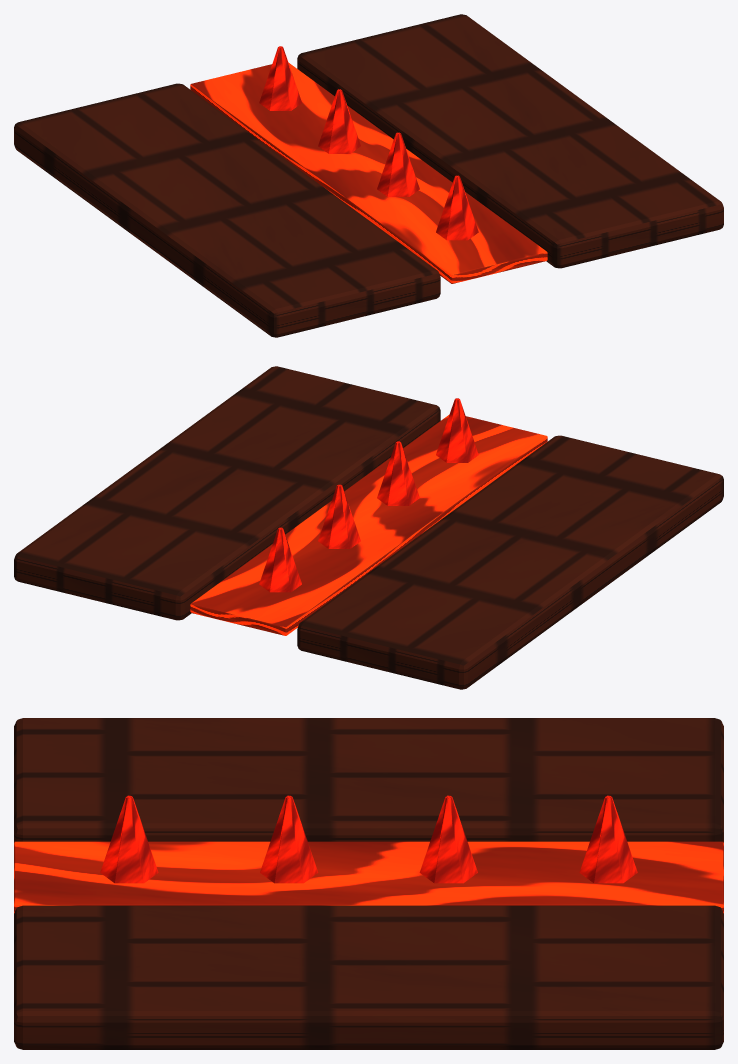
File: SM_FC_MagmaFissure_400.glb
The picture shows the model from 3 angles, top to bottom: view 1: azimuth 30°, elevation 25°; view 2: azimuth 150°, elevation 25°; view 3: azimuth 270°, elevation 25°; orthographic projection. The views are drawn at different scales.
Parts seen in each view (by area): view 1: SM_FC_MagmaFissure_400; view 2: SM_FC_MagmaFissure_400; view 3: SM_FC_MagmaFissure_400.
Boxes of the visible parts, left/top/right/bottom form: SM_FC_MagmaFissure_400: left=14, top=14, right=723, bottom=337; SM_FC_MagmaFissure_400: left=14, top=366, right=723, bottom=689; SM_FC_MagmaFissure_400: left=14, top=718, right=723, bottom=1049.
Size of the model in its own units: 4 by 0.66 by 4.
3 materials, 3 textured.
